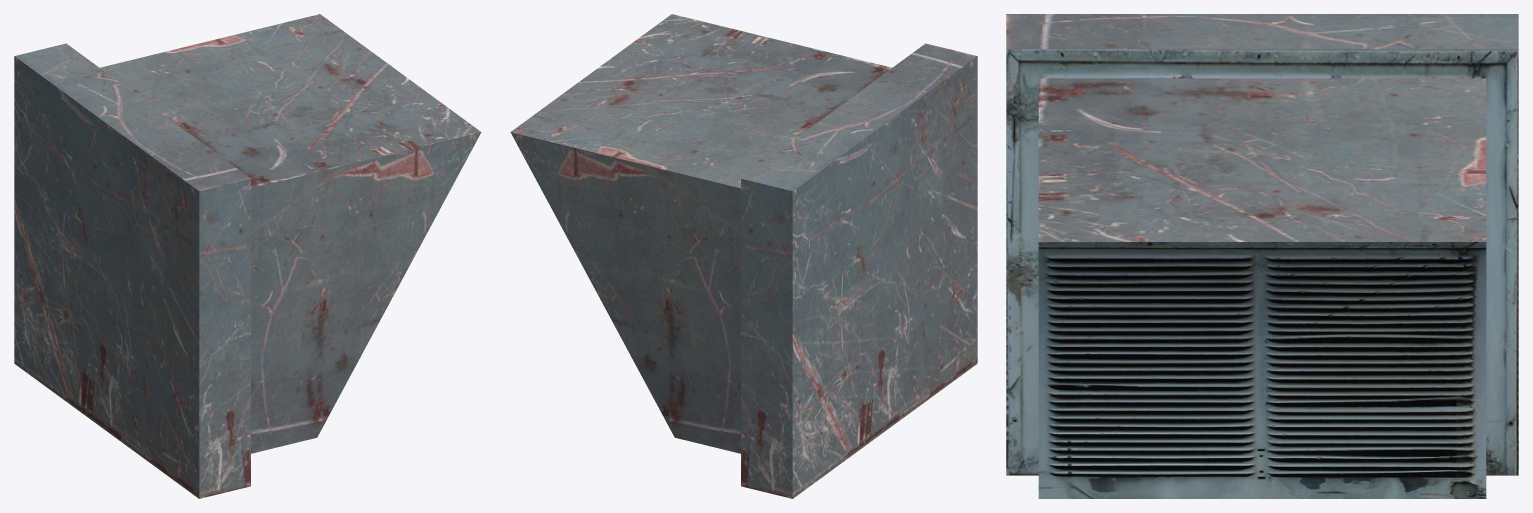
Rendered from clima01.fbx.
The picture shows the model from 3 angles, left to right: view 1: azimuth 30°, elevation 25°; view 2: azimuth 150°, elevation 25°; view 3: azimuth 270°, elevation 25°; orthographic projection. The views are drawn at different scales.
Visible parts, largest first — view 1: Mesh Object; view 2: Mesh Object; view 3: Mesh Object.
Boxes of the visible parts, bbox=[...] form: Mesh Object: bbox=[14, 14, 481, 498]; Mesh Object: bbox=[510, 14, 977, 498]; Mesh Object: bbox=[1006, 14, 1518, 498].
Bounding box in the file's own units: 1.02 × 1.02 × 1.11.
